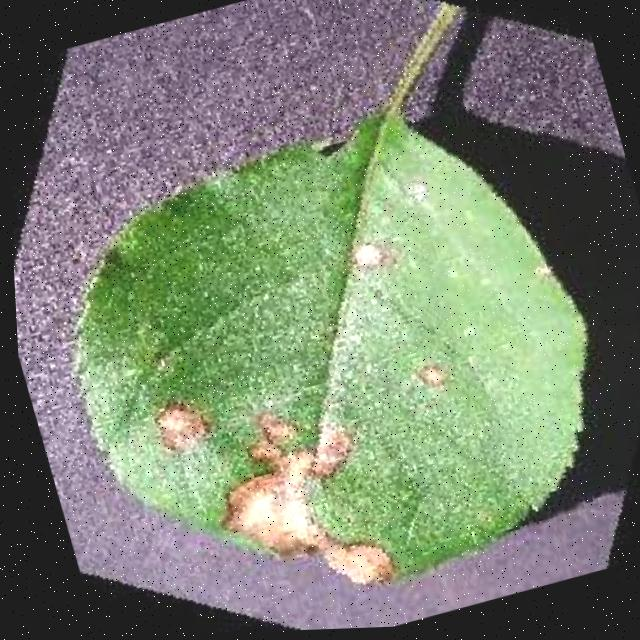black_rot: (186, 386, 406, 632), (136, 382, 214, 465), (328, 223, 399, 291), (406, 351, 463, 405)
